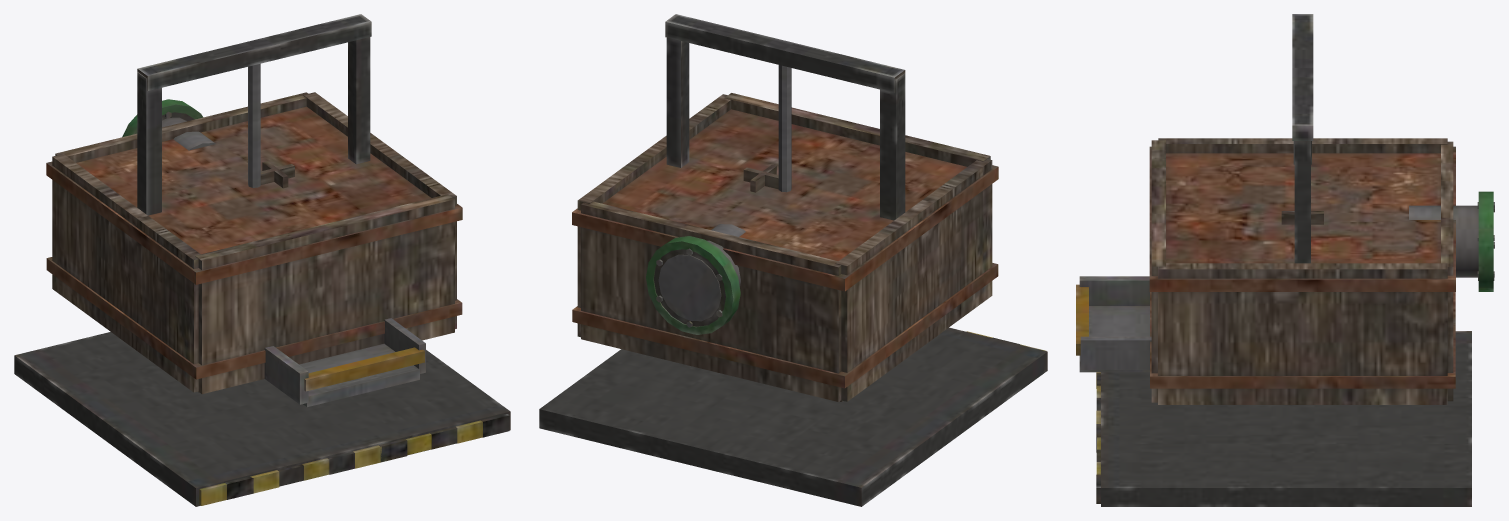
The model's file is feCoagTank.glb.
3 renders of one model, left to right at view 1: azimuth 30°, elevation 25°; view 2: azimuth 150°, elevation 25°; view 3: azimuth 270°, elevation 25°, orthographic. The views are drawn at different scales.
Visible parts, largest first — view 1: feCoagTank_Base, FeWorkSpin_x0.3_Paddle; view 2: feCoagTank_Base, FeWorkSpin_x0.3_Paddle; view 3: feCoagTank_Base.
Part boxes in pixels (box(x1,y1,x2,y2)): feCoagTank_Base: box(14, 14, 510, 506); FeWorkSpin_x0.3_Paddle: box(248, 63, 294, 188); feCoagTank_Base: box(539, 14, 1047, 506); FeWorkSpin_x0.3_Paddle: box(743, 65, 791, 192); feCoagTank_Base: box(1076, 14, 1494, 506).
Bounding box in the file's own units: 0.9012 × 0.9612 × 1.02.
Materials: 2 (1 with a texture image).
